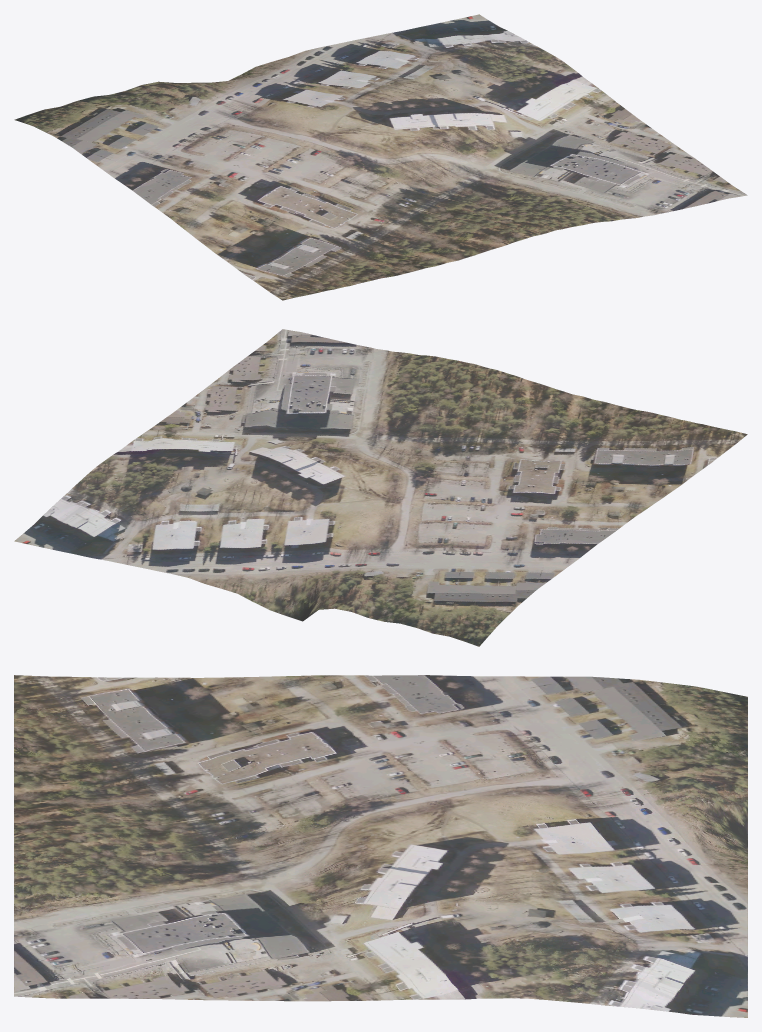
Rendered from CM_Terrain_24491482_6816312.fbx.
The picture shows the model from 3 angles, top to bottom: view 1: azimuth 30°, elevation 25°; view 2: azimuth 150°, elevation 25°; view 3: azimuth 270°, elevation 25°; orthographic projection. The views are drawn at different scales.
Parts seen in each view (by area): view 1: CM_Terrain_24491482_6816312_LOD0; view 2: CM_Terrain_24491482_6816312_LOD0; view 3: CM_Terrain_24491482_6816312_LOD0.
Boxes of the visible parts, x1,y1,x2,y2 form: CM_Terrain_24491482_6816312_LOD0: (14, 14, 747, 300); CM_Terrain_24491482_6816312_LOD0: (14, 329, 747, 646); CM_Terrain_24491482_6816312_LOD0: (14, 675, 747, 1017).
Size of what is drawn, in the model's own units: 205 by 15.78 by 205.
